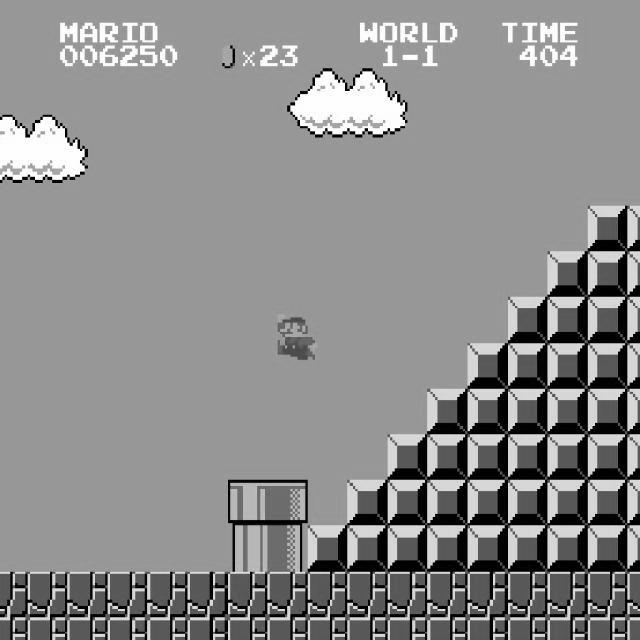11- little_mario: (275, 311, 318, 360)
14- pipe: (227, 526, 268, 572), (267, 526, 308, 572)
15- pipe_head: (227, 480, 268, 526), (267, 480, 308, 526)
17- undestructible_block: (27, 572, 68, 618), (67, 572, 108, 618), (107, 572, 148, 618), (147, 572, 188, 618), (187, 572, 228, 618), (227, 572, 268, 618), (267, 572, 308, 618), (307, 572, 348, 618), (347, 572, 388, 618), (387, 572, 428, 618), (427, 572, 468, 618), (467, 572, 508, 618), (507, 572, 548, 618), (547, 572, 588, 618), (587, 572, 628, 618), (0, 572, 28, 618), (27, 617, 68, 640), (67, 617, 108, 640), (107, 617, 148, 640), (147, 617, 188, 640), (187, 617, 228, 640), (227, 617, 268, 640), (267, 617, 308, 640), (307, 617, 348, 640), (347, 617, 388, 640), (387, 617, 428, 640), (427, 617, 468, 640), (467, 617, 508, 640), (507, 617, 548, 640), (547, 617, 588, 640), (587, 617, 628, 640), (0, 617, 28, 640), (627, 572, 640, 618), (627, 617, 640, 640)
9- hard_block: (307, 526, 348, 572), (347, 480, 388, 526), (347, 526, 388, 572), (387, 434, 428, 480), (387, 480, 428, 526), (387, 526, 428, 572), (427, 388, 468, 434), (427, 434, 468, 480), (427, 480, 468, 526), (427, 526, 468, 572), (467, 388, 508, 434), (467, 434, 508, 480), (467, 480, 508, 526), (467, 526, 508, 572), (507, 297, 548, 343), (507, 388, 548, 434), (507, 434, 548, 480), (507, 480, 548, 526), (507, 526, 548, 572), (547, 252, 588, 298), (547, 297, 588, 343), (547, 388, 588, 434), (547, 434, 588, 480), (547, 480, 588, 526), (547, 526, 588, 572), (587, 252, 628, 298), (587, 297, 628, 343), (587, 388, 628, 434), (587, 434, 628, 480), (587, 480, 628, 526), (587, 526, 628, 572), (467, 343, 508, 388), (507, 343, 548, 388), (547, 343, 588, 388), (587, 206, 628, 251), (587, 343, 628, 388), (627, 252, 640, 298), (627, 297, 640, 343), (627, 388, 640, 434), (627, 434, 640, 480), (627, 480, 640, 526), (627, 526, 640, 572), (627, 206, 640, 251), (627, 343, 640, 388)
